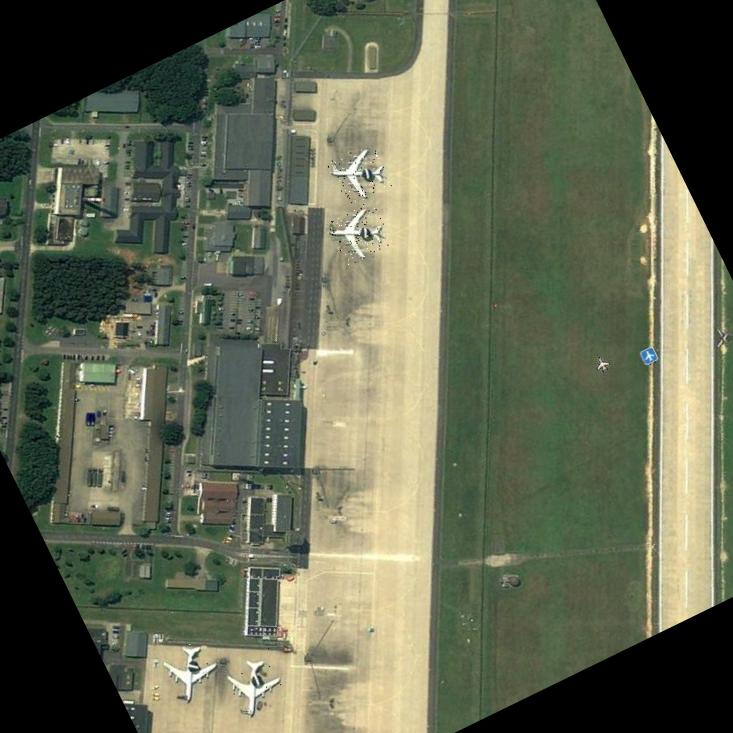A7: (220, 647, 293, 722), (157, 632, 227, 704), (326, 140, 392, 207), (326, 200, 392, 266)
